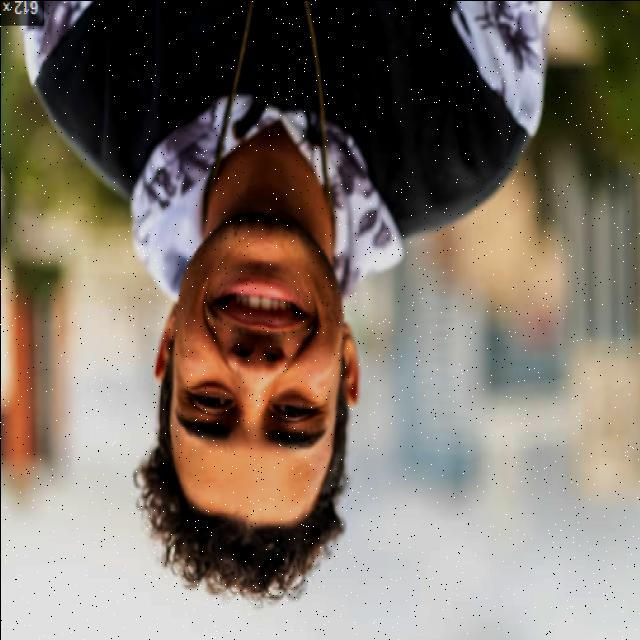face_no_mask: (155, 211, 359, 533)
